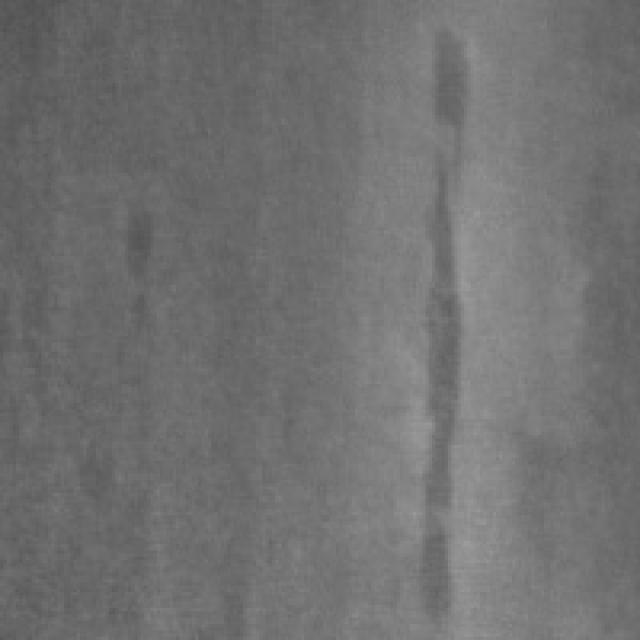inclusion: (528, 237, 630, 624), (396, 138, 474, 630), (413, 22, 480, 205), (106, 198, 163, 358)
